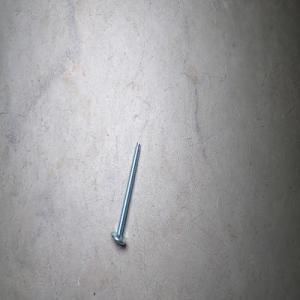Bolt: (110, 140, 141, 245)
